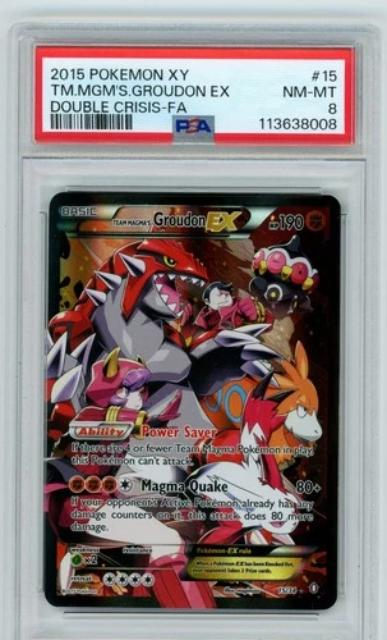Card: (41, 186, 345, 615)
Name: (109, 206, 250, 238)
